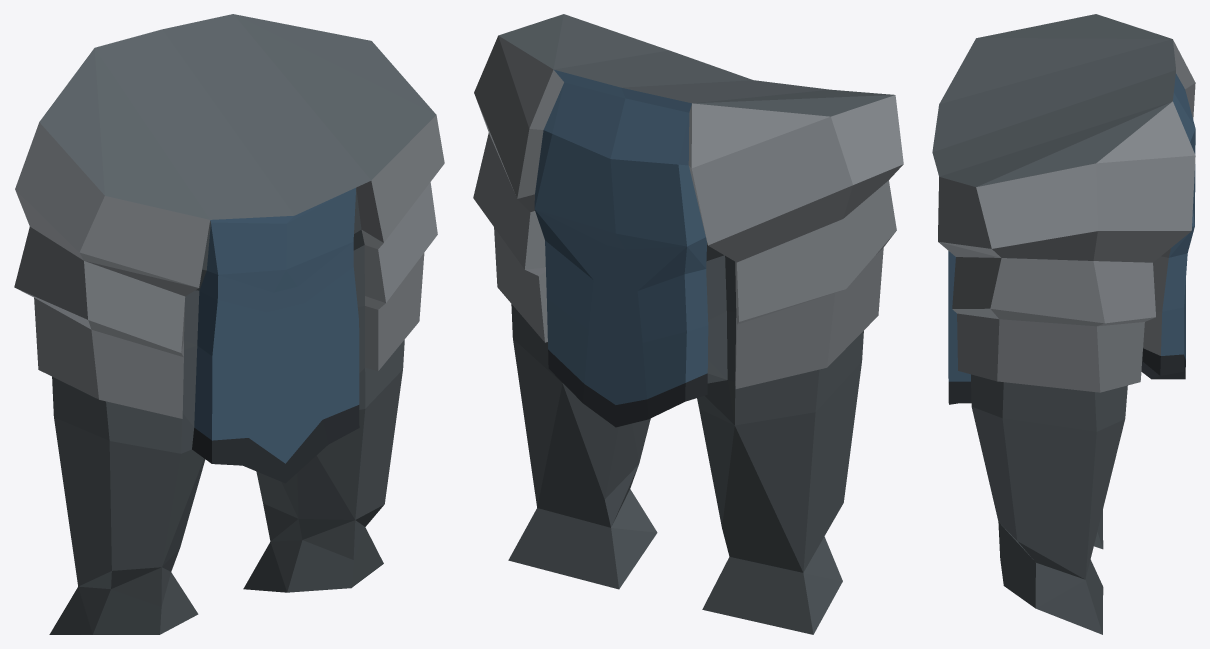
Rendered from Chr_Hips_Female_19_Static.fbx.
The picture shows the model from 3 angles, left to right: view 1: azimuth 30°, elevation 25°; view 2: azimuth 150°, elevation 25°; view 3: azimuth 270°, elevation 25°; orthographic projection. The views are drawn at different scales.
Visible parts, largest first — view 1: Chr_Hips_Female_19_Static; view 2: Chr_Hips_Female_19_Static; view 3: Chr_Hips_Female_19_Static.
Boxes of the visible parts, box(x1,y1,x2,y2) form: Chr_Hips_Female_19_Static: box(14, 14, 444, 634); Chr_Hips_Female_19_Static: box(473, 14, 903, 634); Chr_Hips_Female_19_Static: box(932, 14, 1195, 634).
Bounding box in the file's own units: 0.4258 × 0.5805 × 0.2781.
